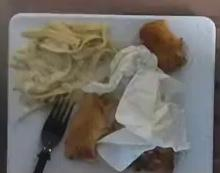pasta: (10, 22, 115, 104)
pizza_crust: (64, 93, 121, 160), (139, 21, 186, 71)
